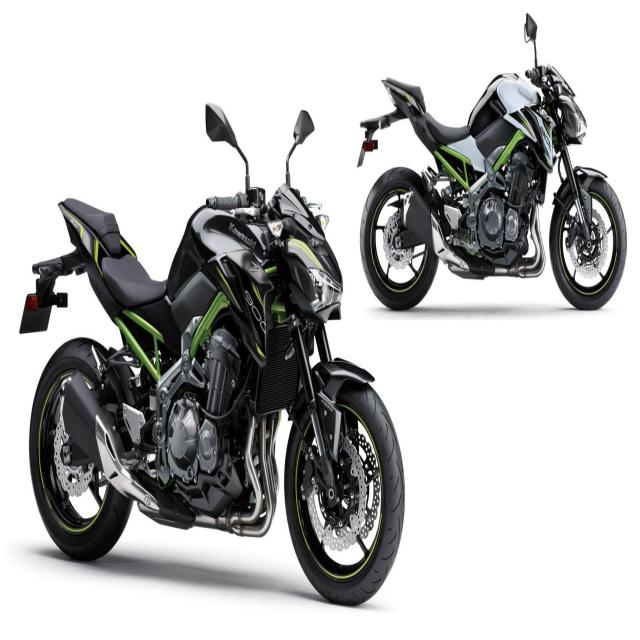motorcycle: (20, 104, 404, 604), (359, 13, 626, 309)
